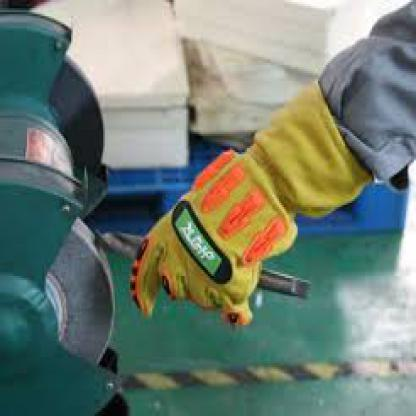with_gloves: (130, 79, 372, 327)
